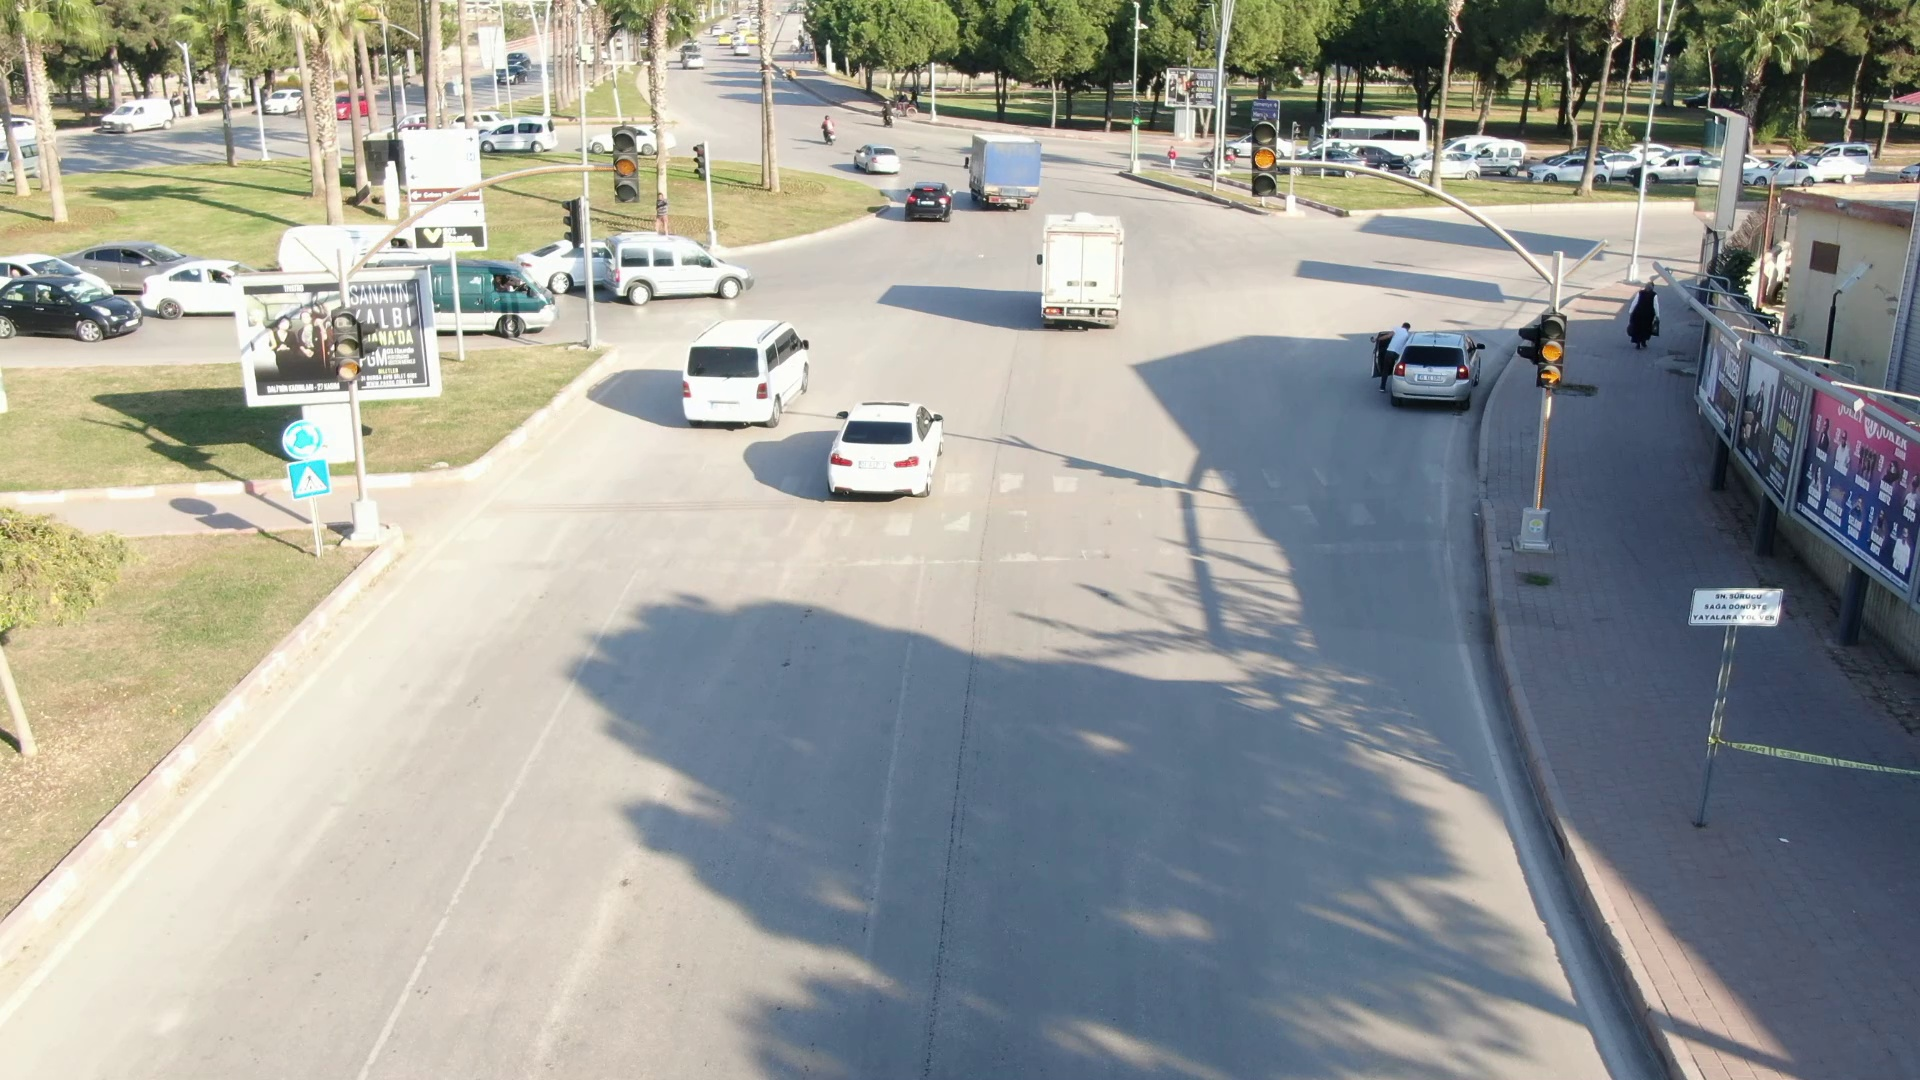car: (672, 312, 817, 440), (1029, 205, 1153, 332), (818, 393, 956, 502), (602, 225, 756, 308), (956, 119, 1046, 213), (1400, 338, 1492, 413), (895, 175, 954, 229), (845, 140, 906, 177)
person: (1624, 279, 1670, 355)
